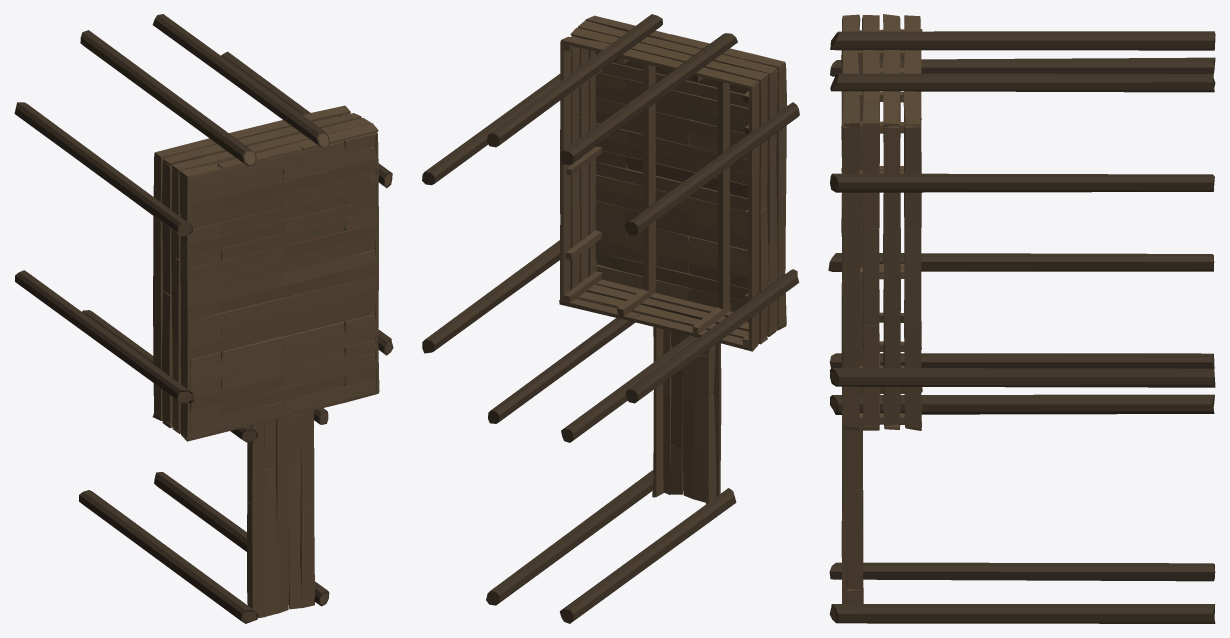
Rendered from ShopDocks.glb.
The picture shows the model from 3 angles, left to right: view 1: azimuth 30°, elevation 25°; view 2: azimuth 150°, elevation 25°; view 3: azimuth 270°, elevation 25°; orthographic projection. The views are drawn at different scales.
Parts seen in each view (by area): view 1: ShopDocks; view 2: ShopDocks; view 3: ShopDocks.
Part boxes in pixels (x1,y1,x2,y2): ShopDocks: [14, 14, 393, 623]; ShopDocks: [422, 14, 799, 623]; ShopDocks: [828, 14, 1215, 623].
Size of the model in its own units: 7.02 by 14.67 by 9.38.
Materials: 1 (1 with a texture image).
